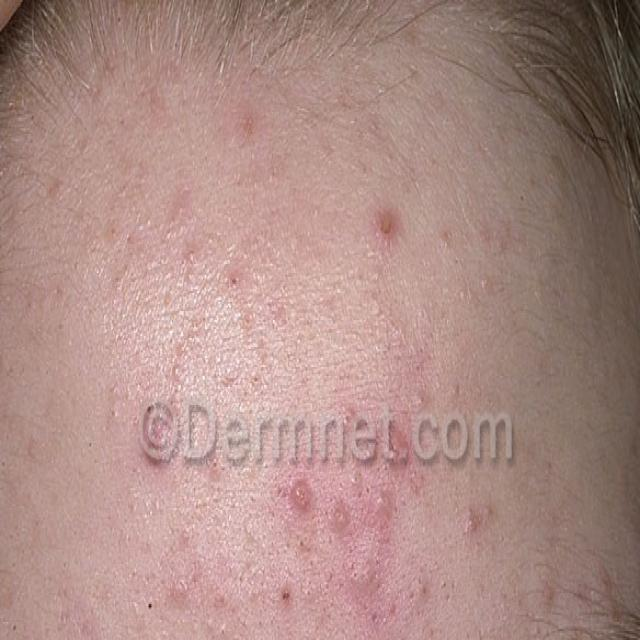Acne: (534, 541, 607, 639), (190, 219, 264, 315), (322, 441, 372, 553), (394, 424, 436, 533), (352, 549, 396, 639), (457, 473, 507, 548), (269, 582, 313, 640), (374, 199, 406, 257), (288, 475, 315, 516), (235, 111, 263, 149), (631, 521, 640, 589), (131, 390, 136, 398)
